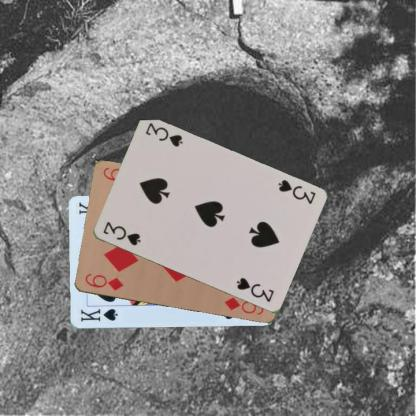3s: (275, 176, 317, 206), (100, 219, 142, 247)
6d: (82, 271, 125, 292)
Ks: (77, 306, 119, 323)
